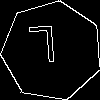L: (27, 25, 58, 72)
